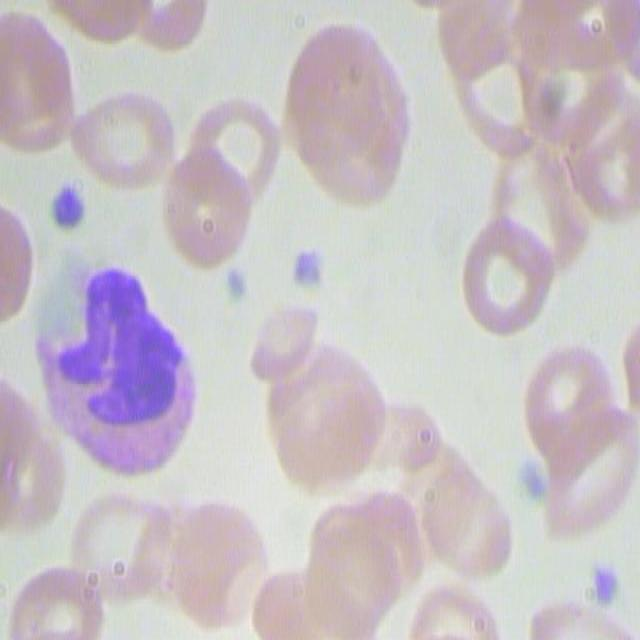Platelets: (37, 171, 86, 237), (280, 241, 325, 299), (506, 452, 546, 501), (584, 557, 623, 607)
RBC: (536, 397, 639, 551), (167, 497, 269, 635), (60, 83, 184, 192), (455, 214, 563, 334), (155, 148, 255, 273), (6, 558, 106, 638), (237, 303, 319, 377)
WBC: (14, 240, 208, 481)
